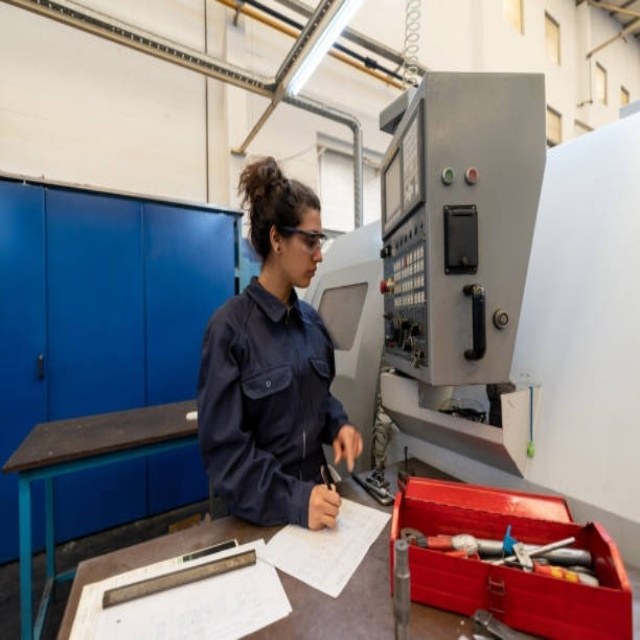Gafas: (280, 226, 327, 252)
Sin_guantes: (311, 478, 340, 537), (332, 420, 366, 470)
Sin_mascara: (292, 259, 320, 287)
